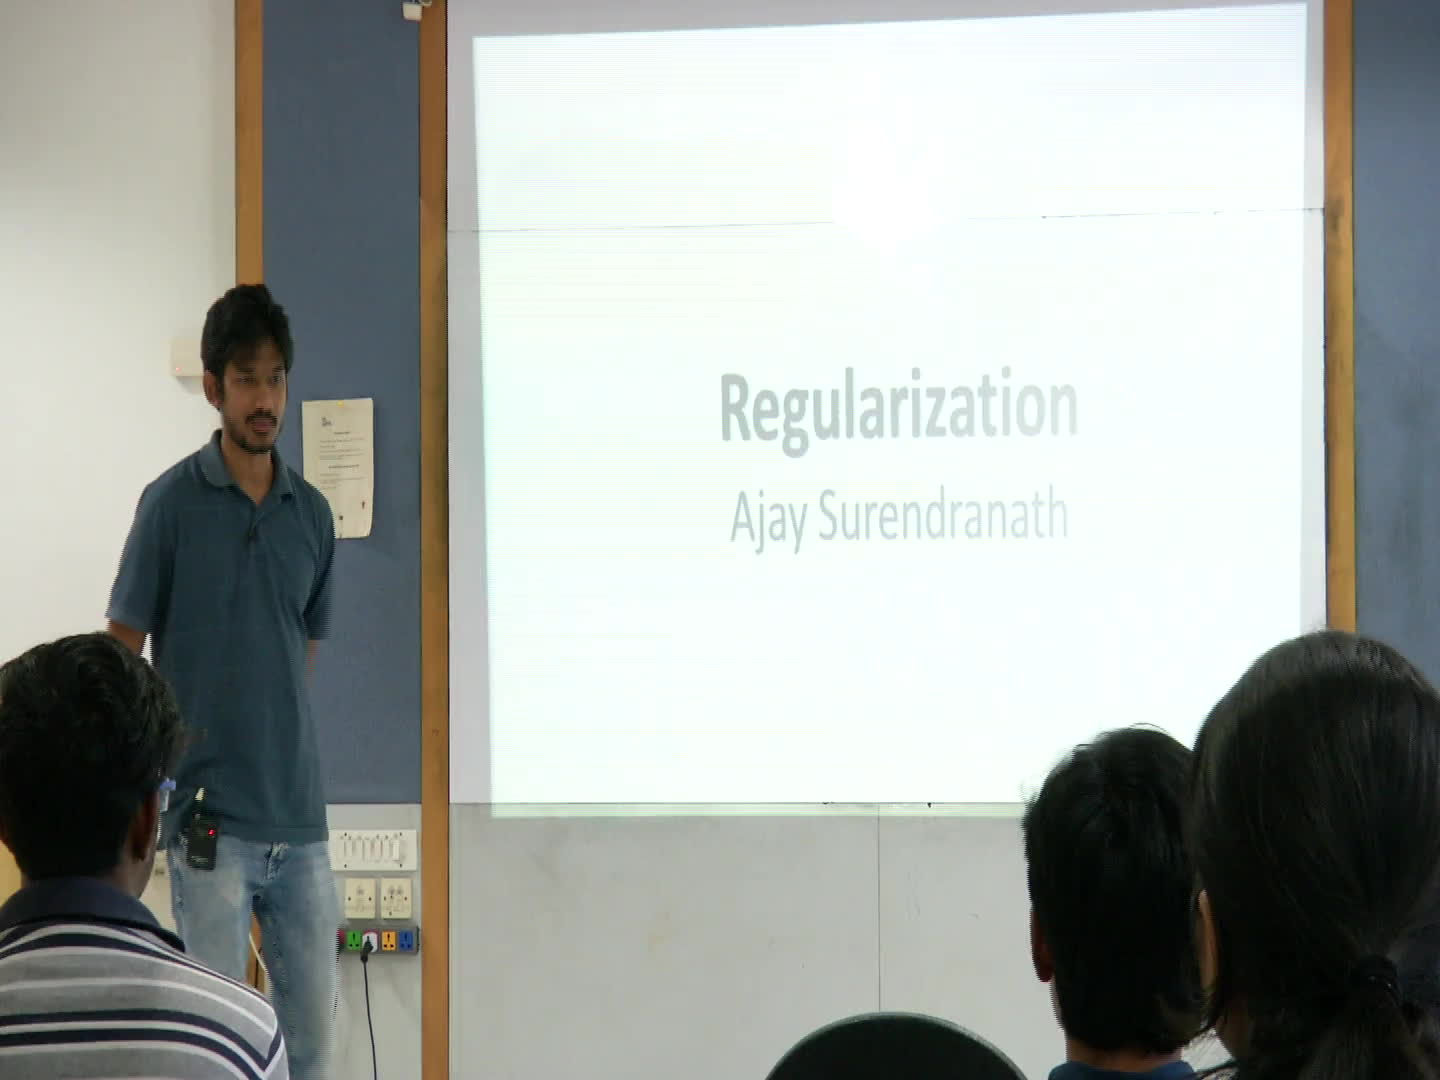slide: (474, 5, 1304, 819)
